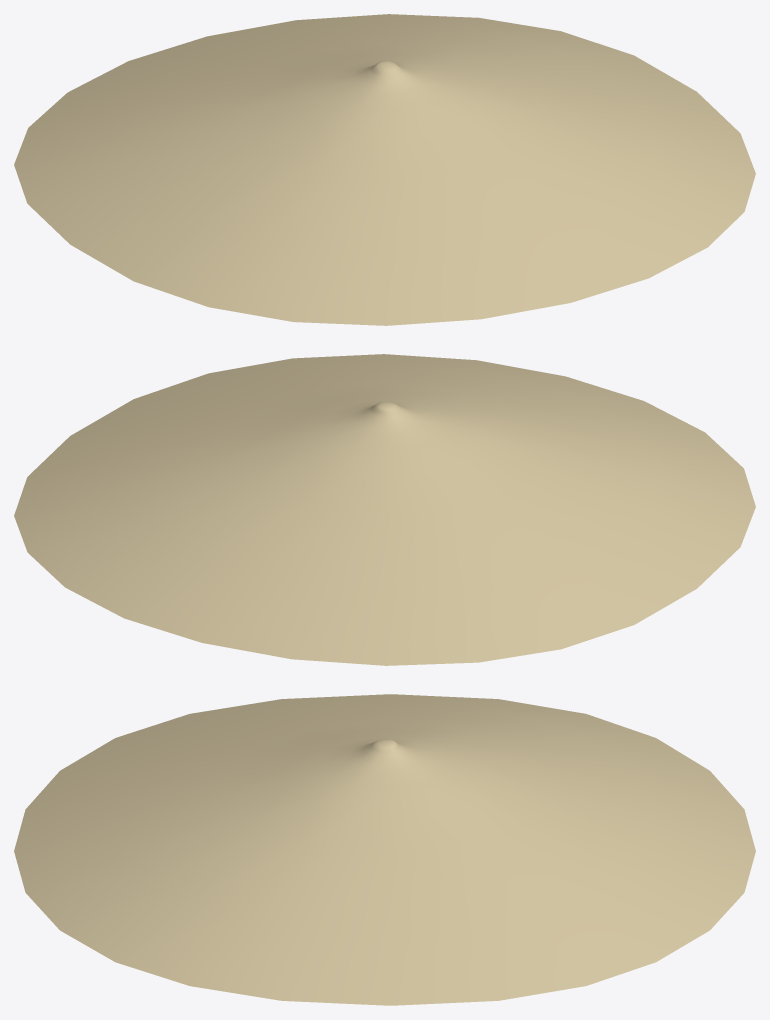
Rendered from island.fbx.
The picture shows the model from 3 angles, top to bottom: view 1: azimuth 30°, elevation 25°; view 2: azimuth 150°, elevation 25°; view 3: azimuth 270°, elevation 25°; orthographic projection.
Parts seen in each view (by area): view 1: island; view 2: island; view 3: island.
Boxes of the visible parts, x1,y1,x2,y2 form: island: [14, 14, 755, 325]; island: [14, 354, 755, 665]; island: [14, 694, 755, 1005].
Bounding box in the file's own units: 13695 × 2218 × 13778.
